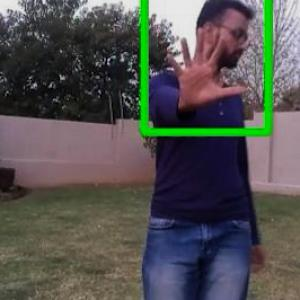follow_hand: (162, 24, 250, 110)
